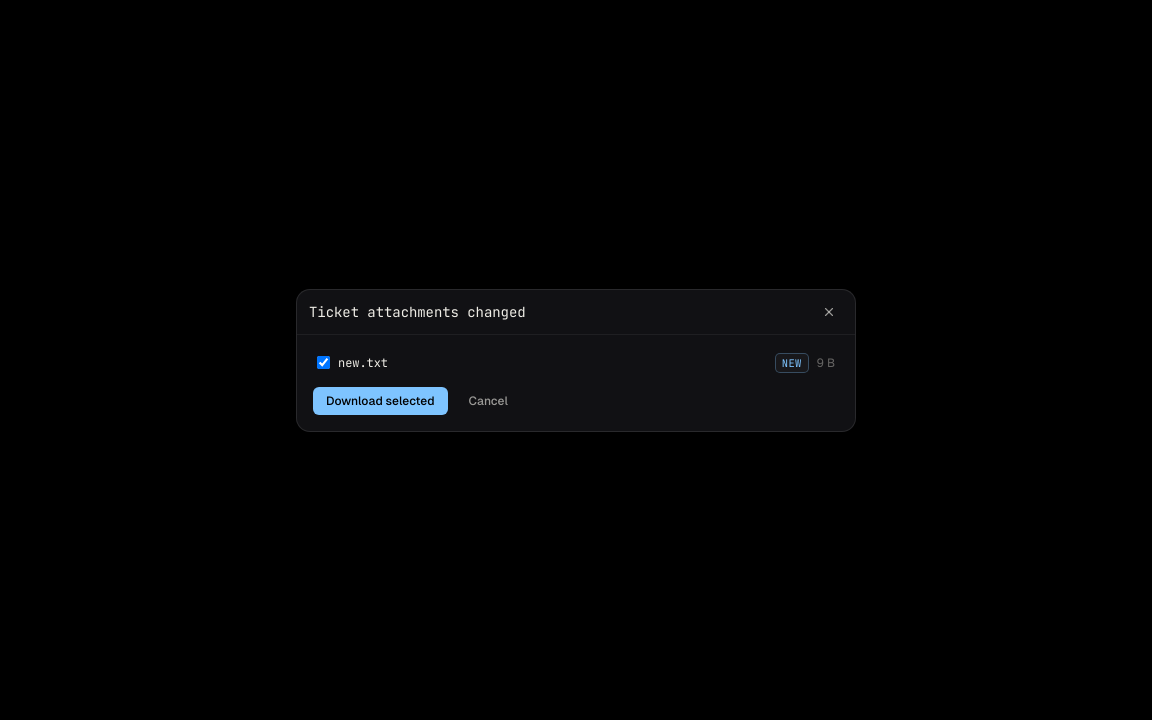
Scenario: JiraAttachmentsDialog › disables Cancel while the confirm persist is in flight
Click the button "Download selected". click: {"x": 380, "y": 400}
box: top-left (313, 386), bottom-right (448, 414)
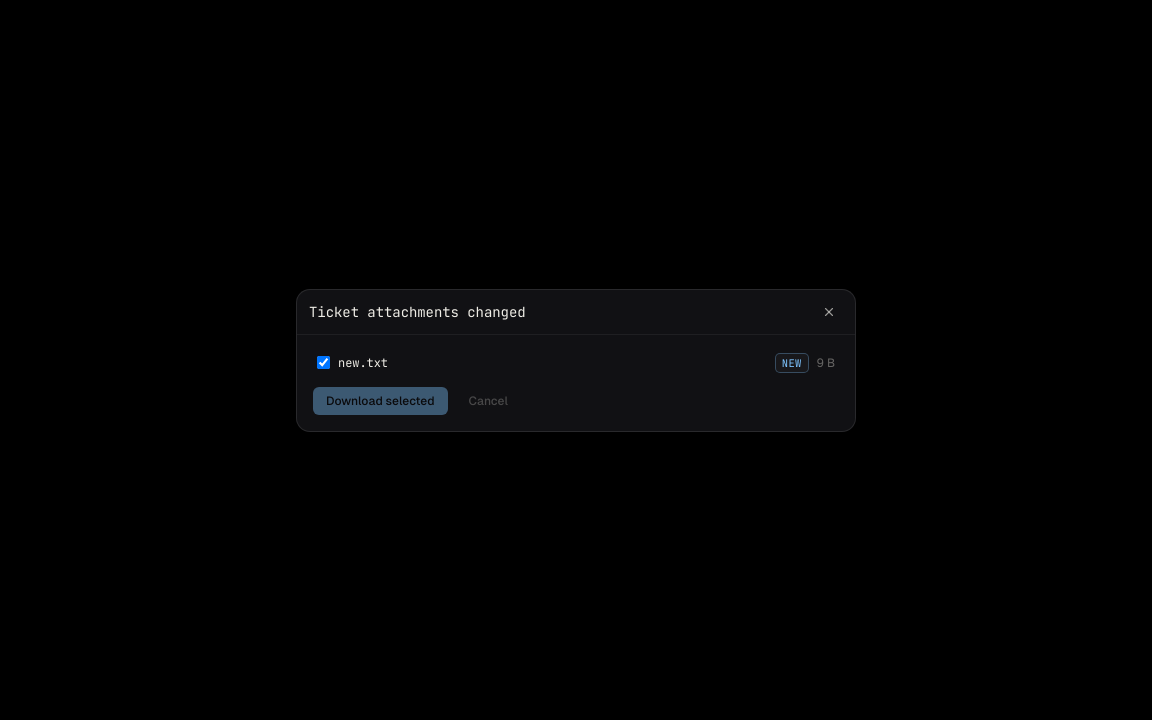
Expected: the button "Cancel" is disabled, top-left (456, 386), bottom-right (521, 414)
Expected: the button "Download selected" is disabled, top-left (313, 386), bottom-right (448, 414)
